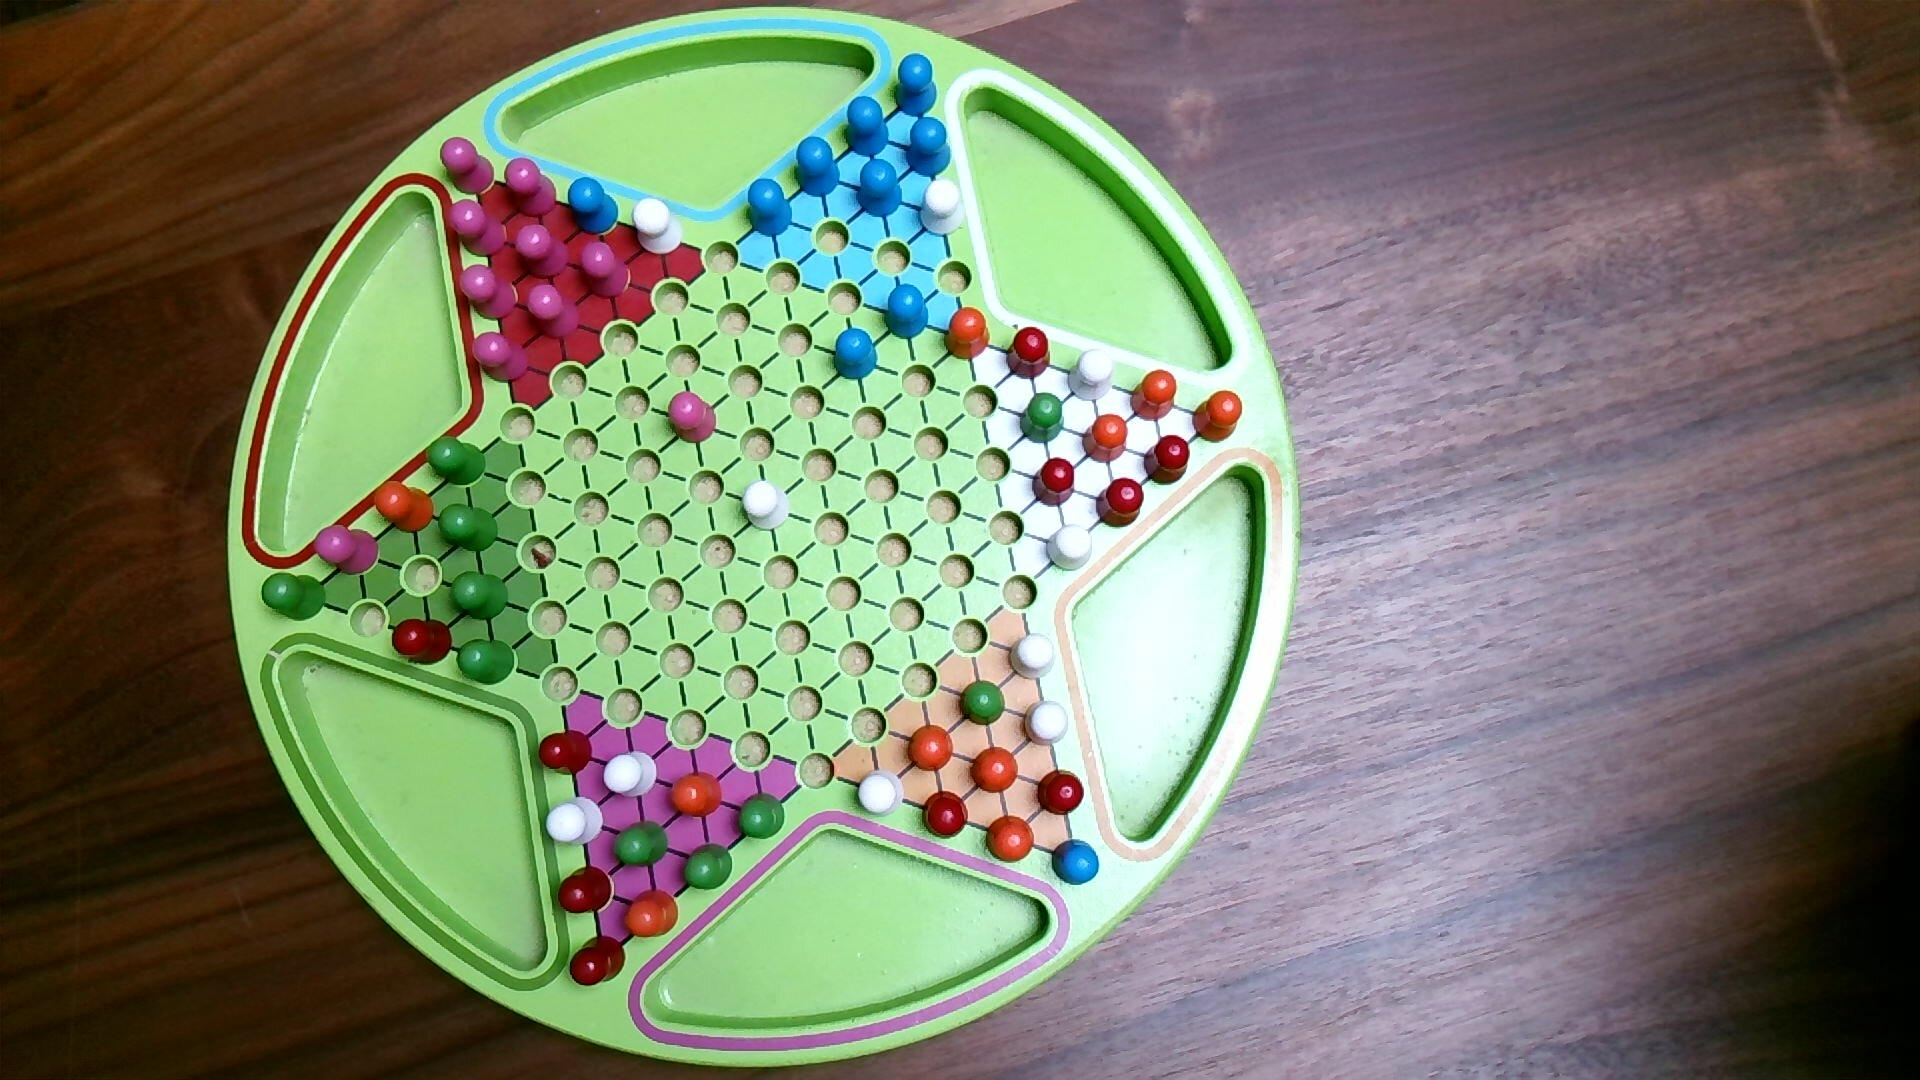B: (567, 175, 621, 237), (793, 135, 843, 200), (843, 94, 891, 160), (891, 51, 939, 119), (745, 177, 795, 240), (905, 115, 953, 179), (856, 157, 905, 220), (1050, 837, 1102, 889), (831, 327, 880, 382), (884, 284, 930, 342)
G: (261, 571, 328, 622), (448, 568, 512, 622), (436, 502, 501, 555), (425, 435, 488, 488), (611, 819, 671, 870), (456, 637, 518, 687), (680, 840, 735, 893), (735, 790, 787, 843), (957, 679, 1007, 728), (1021, 392, 1065, 444)
O: (372, 479, 436, 535), (622, 886, 680, 942), (1192, 389, 1244, 446), (667, 770, 724, 820), (1129, 368, 1179, 425), (943, 306, 992, 364), (1080, 413, 1131, 465), (984, 815, 1036, 865), (971, 744, 1021, 795), (906, 723, 955, 774)
R: (392, 617, 454, 669), (568, 935, 628, 988), (556, 864, 615, 916), (1142, 433, 1193, 488), (1005, 324, 1054, 382), (1095, 476, 1146, 530), (538, 729, 595, 778), (920, 789, 971, 841), (1036, 767, 1087, 818), (1031, 456, 1077, 509)
R2: (446, 196, 508, 260), (313, 524, 381, 579), (458, 262, 520, 323), (439, 135, 497, 198), (502, 157, 559, 222), (512, 223, 571, 281), (469, 331, 531, 386), (525, 284, 583, 342), (579, 239, 632, 302), (666, 390, 719, 446)
W: (630, 196, 684, 258), (545, 796, 607, 848), (918, 178, 968, 239), (603, 750, 659, 800), (1067, 348, 1117, 404), (741, 480, 791, 533), (855, 769, 906, 819), (1007, 632, 1058, 683), (1044, 522, 1095, 574), (1022, 699, 1072, 748)
